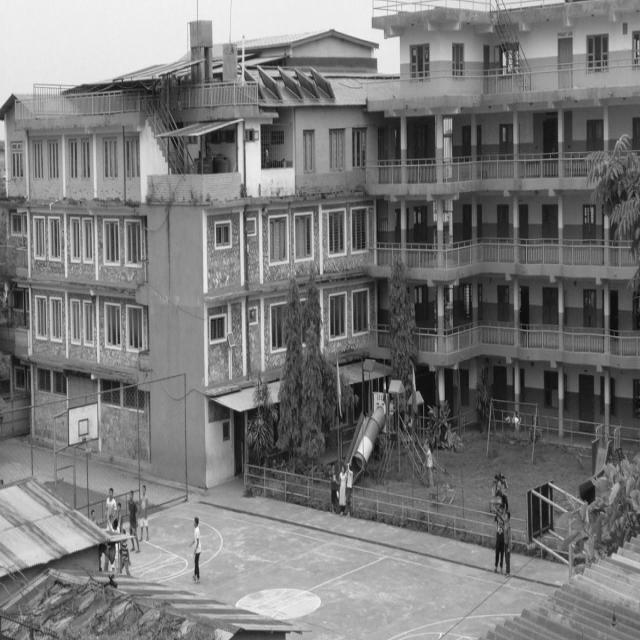person: (579, 424, 617, 502), (418, 434, 440, 496), (191, 518, 209, 584), (134, 488, 150, 544), (105, 489, 124, 535), (502, 510, 514, 572), (494, 497, 504, 571), (327, 460, 337, 510), (346, 460, 354, 517), (339, 463, 347, 518), (511, 406, 522, 439), (502, 406, 510, 436), (90, 506, 97, 522), (113, 520, 118, 538), (116, 502, 122, 516)
